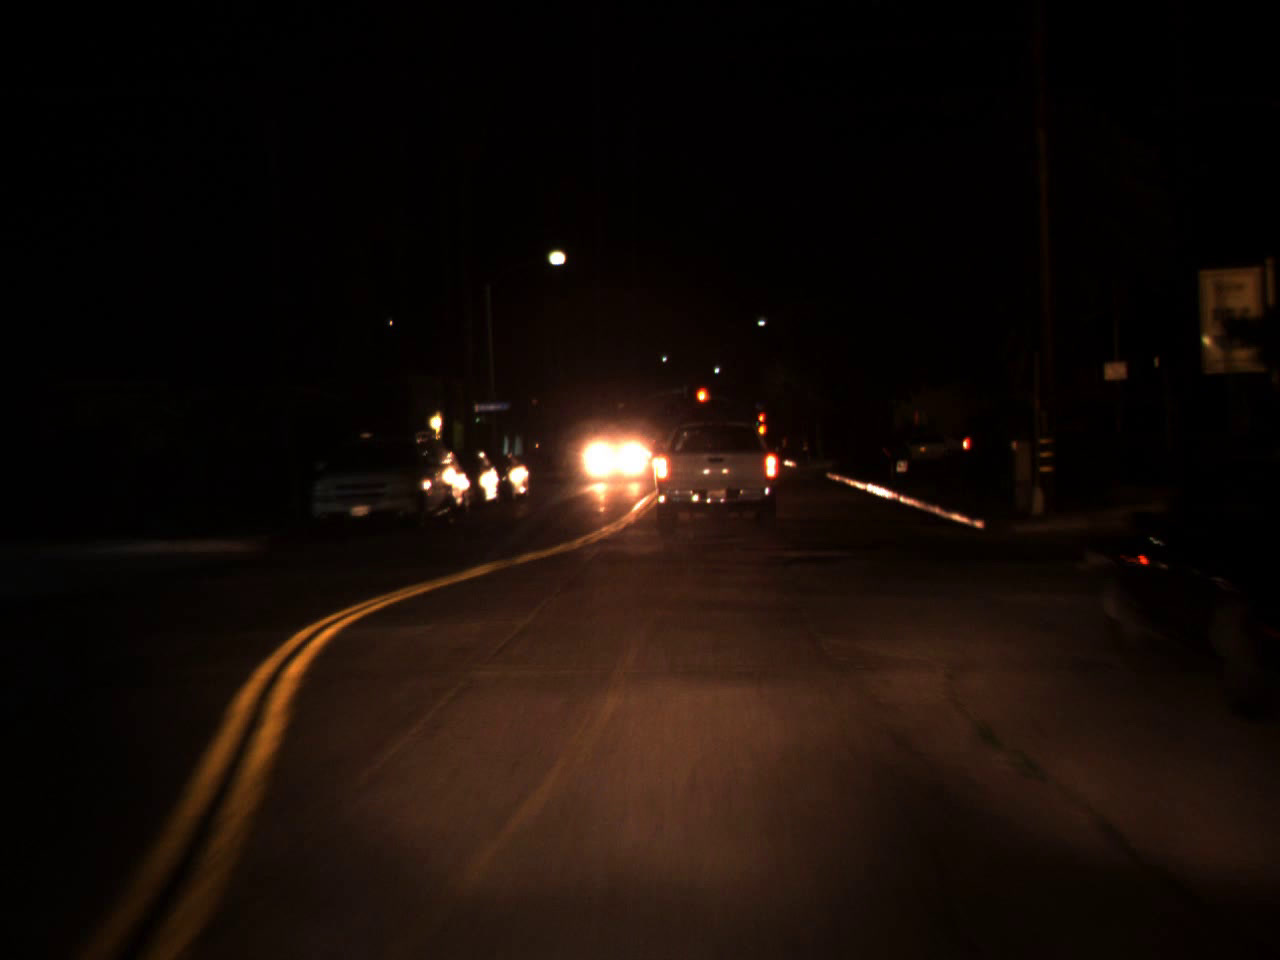stop: (694, 385, 710, 419), (756, 412, 766, 433)
